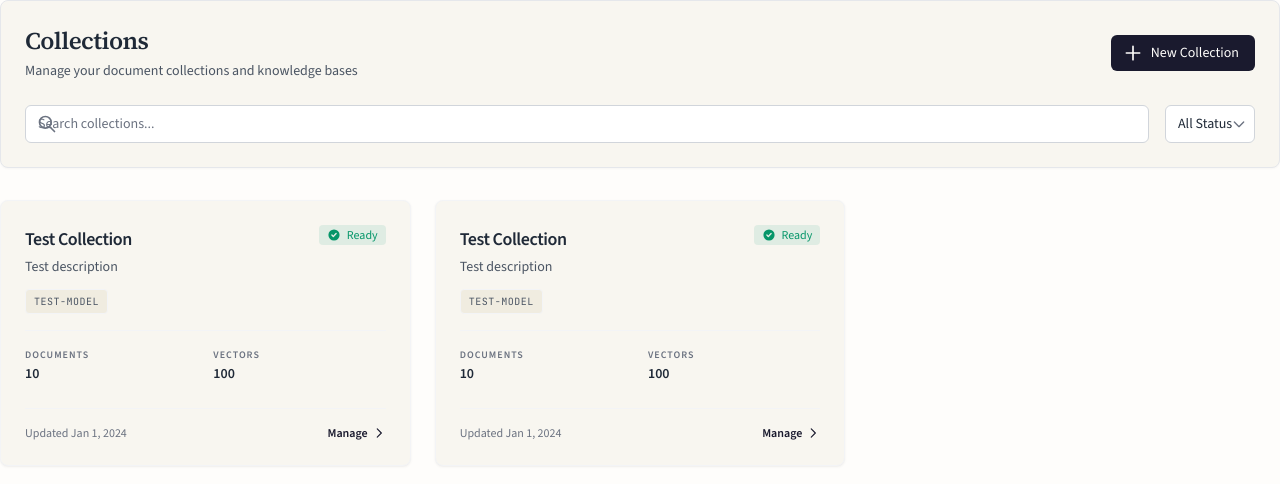
Test case: CollectionsDashboard › Empty States › should show no results message when status filter returns no matches
Select "Error" in the dropdown named "Filter collections by status" at [1210, 124], box [1165,105,1255,143]
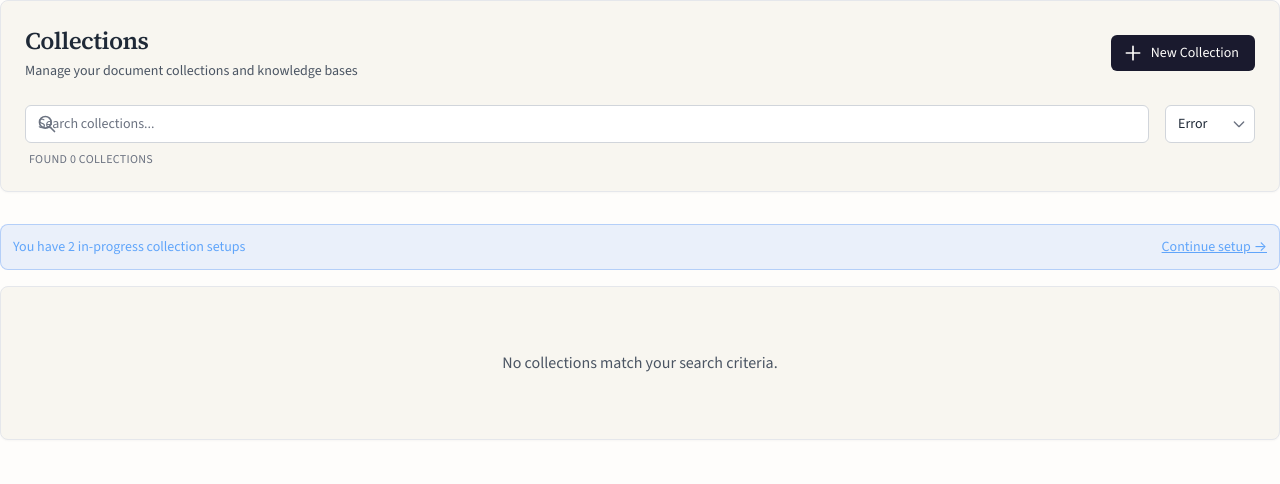
Check: the text "No collections match your search criteria." is shown, box [502,352,778,373]
